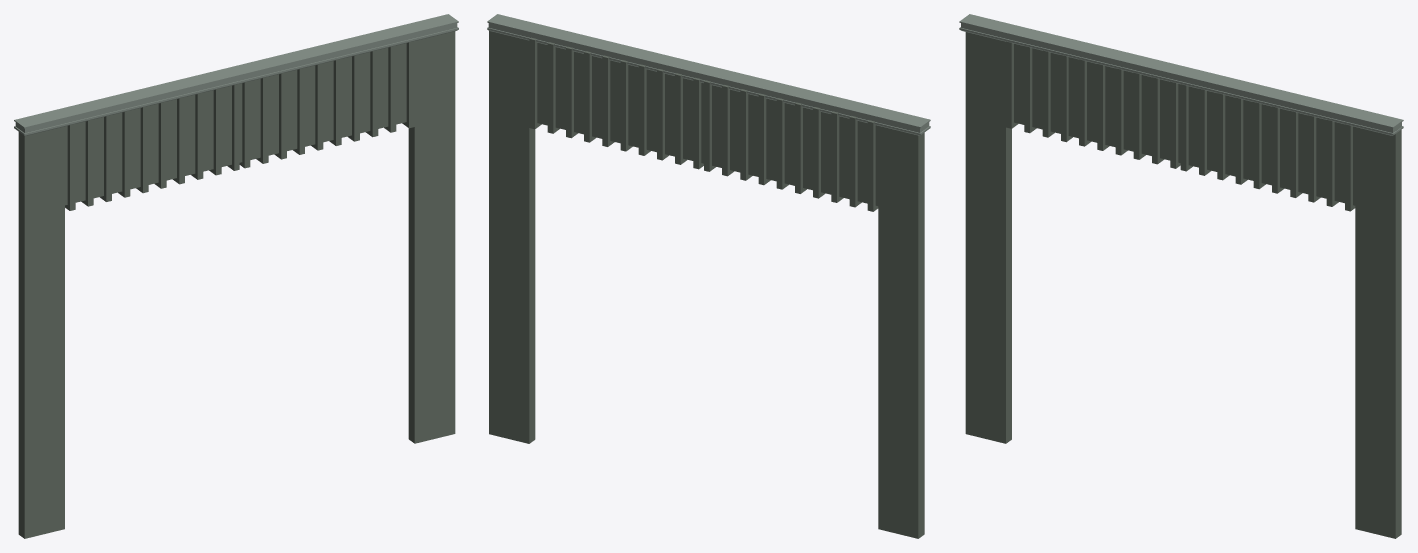
The model's file is SM_garage_entry_01.fbx.
The picture shows the model from 3 angles, left to right: view 1: azimuth 30°, elevation 25°; view 2: azimuth 150°, elevation 25°; view 3: azimuth 330°, elevation 25°; orthographic projection.
Visible parts, largest first — view 1: garage_entry_01; view 2: garage_entry_01; view 3: garage_entry_01.
Part boxes in pixels (bbox=[...]): garage_entry_01: bbox=[14, 14, 458, 538]; garage_entry_01: bbox=[487, 14, 930, 538]; garage_entry_01: bbox=[959, 14, 1403, 538].
Size of the model in its own units: 754 by 687 by 34.29.
